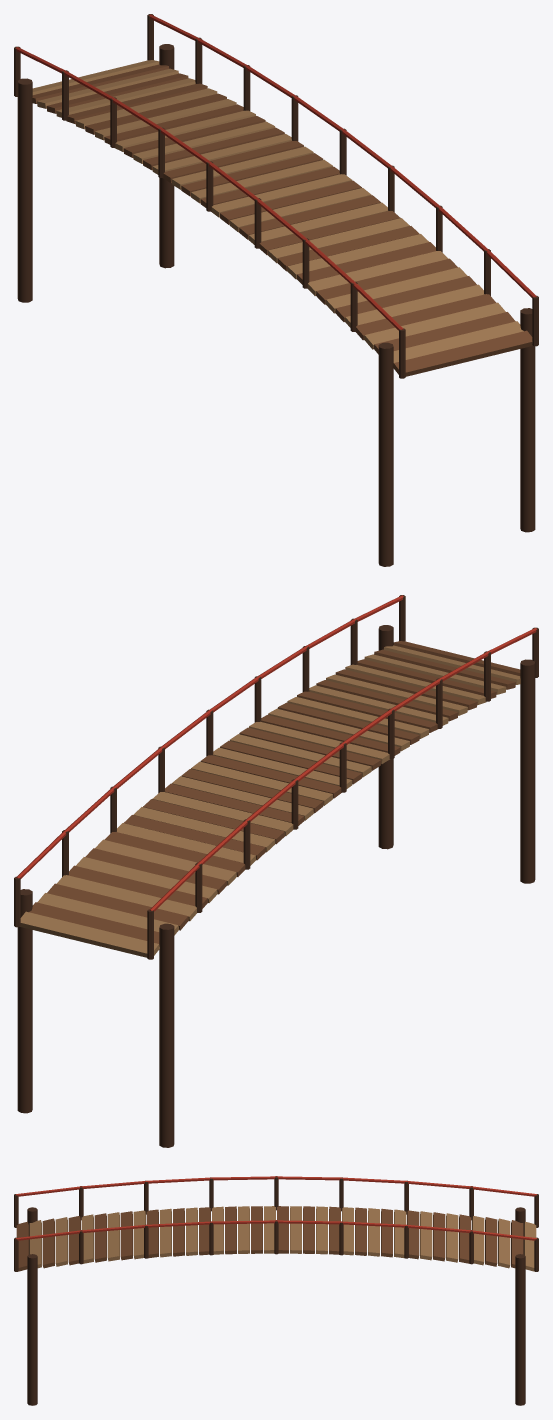
Rendered from bridge_wood.glb.
3 renders of one model, top to bottom at view 1: azimuth 30°, elevation 25°; view 2: azimuth 150°, elevation 25°; view 3: azimuth 270°, elevation 25°, orthographic. The views are drawn at different scales.
Visible parts, largest first — view 1: Bridge; view 2: Bridge; view 3: Bridge.
Boxes of the visible parts, x1,y1,x2,y2 form: Bridge: (14, 14, 538, 566); Bridge: (14, 595, 538, 1147); Bridge: (14, 1176, 538, 1405).
Size of what is drawn, in the model's own units: 3.72 by 6.17 by 16.14.
